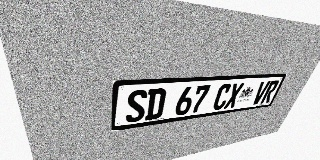6: (174, 86, 196, 116)
7: (189, 85, 211, 114)
C: (211, 83, 233, 111)
D: (145, 88, 167, 121)
R: (260, 80, 280, 104)
S: (125, 89, 148, 123)
V: (251, 81, 271, 105)
X: (223, 83, 245, 109)
